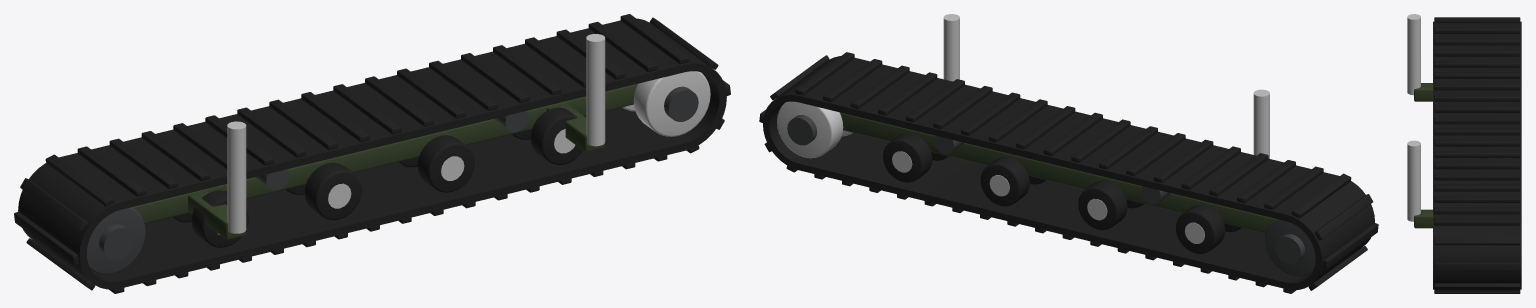
Rendered from track_left.glb.
3 views of the same model, side by side, from view 1: azimuth 30°, elevation 25°; view 2: azimuth 150°, elevation 25°; view 3: azimuth 270°, elevation 25° (orthographic). The views are drawn at different scales.
Visible parts, largest first — view 1: track_left; view 2: track_left; view 3: track_left.
Part boxes in pixels (<box>): track_left: <box>14,14,730,293</box>; track_left: <box>759,14,1378,293</box>; track_left: <box>1407,14,1521,293</box>.
Size of the model in its own units: 1.98 by 0.44 by 0.413.
